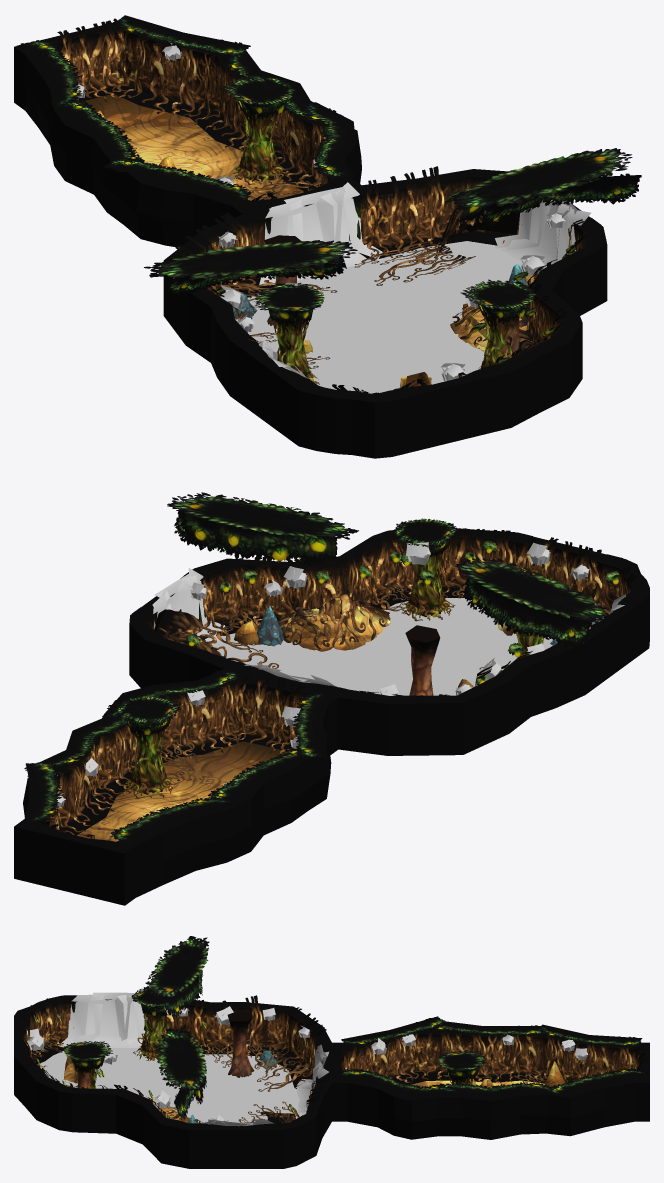
3 views of the same model, one above another, from view 1: azimuth 30°, elevation 25°; view 2: azimuth 150°, elevation 25°; view 3: azimuth 270°, elevation 25° (orthographic). The views are drawn at different scales.
Visible parts, largest first — view 1: Dun_021_Room_003_wall, Dun_021_Room_003_ground, Dan1, Dungeon_021_Object_025, un_021_Door_002 (×4), Dungeon_021_Tsuta_002, un_021_Door_002_Object1 (×3), Dan2, Dungeon_021_Tsuta_001, Dungeon_021_Object_021, Dungeon_021_Object_010 (×2), Dungeon_021_Object_011 (×2) (+8 smaller); view 2: Dun_021_Room_003_wall, Dan1, Dungeon_021_Object_025, un_021_Door_002 (×5), Dun_021_Room_003_ground, Dungeon_021_Tsuta_002, Dungeon_021_Object_021, Dan2, un_021_Door_002_Object1 (×3), Dungeon_021_Tsuta_001, Dungeon_021_Object_011 (×2), Dungeon_021_Object_010 (×2) (+9 smaller); view 3: Dan1, Dun_021_Room_003_wall, Dun_021_Room_003_ground, Dungeon_021_Object_025, Dungeon_021_Tsuta_002, un_021_Door_002_Object1 (×2), un_021_Door_002 (×4), Dungeon_021_Tsuta_001, Dungeon_021_Object_021, Dungeon_021_Object_010 (×2), Dungeon_021_Object_022, Dungeon_011_Object_010 (+6 smaller).
Part boxes in pixels (x1,y1,x2,y2): Dun_021_Room_003_wall: [163, 169, 607, 458]; Dun_021_Room_003_ground: [235, 241, 522, 393]; Dan1: [14, 30, 361, 247]; Dungeon_021_Object_025: [144, 148, 641, 296]; un_021_Door_002 (×4): [17, 22, 507, 451]; Dungeon_021_Tsuta_002: [21, 15, 355, 201]; un_021_Door_002_Object1 (×3): [45, 18, 591, 285]; Dan2: [82, 94, 303, 200]; Dungeon_021_Tsuta_001: [37, 32, 342, 199]; Dungeon_021_Object_021: [175, 166, 586, 392]; Dungeon_021_Object_010 (×2): [219, 75, 537, 323]; Dungeon_021_Object_011 (×2): [229, 106, 517, 369]; Dun_021_Room_003_wall: [129, 528, 649, 755]; Dan1: [14, 682, 338, 905]; Dungeon_021_Object_025: [167, 492, 614, 647]; un_021_Door_002 (×5): [17, 532, 647, 900]; Dun_021_Room_003_ground: [212, 598, 552, 695]; Dungeon_021_Tsuta_002: [24, 667, 327, 842]; Dungeon_021_Object_021: [182, 528, 636, 696]; Dan2: [77, 741, 285, 841]; un_021_Door_002_Object1 (×3): [152, 536, 608, 754]; Dungeon_021_Tsuta_001: [37, 674, 316, 834]; Dungeon_021_Object_011 (×2): [123, 552, 455, 798]; Dungeon_021_Object_010 (×2): [113, 518, 458, 735]; Dan1: [332, 1028, 649, 1139]; Dun_021_Room_003_wall: [14, 995, 331, 1168]; Dun_021_Room_003_ground: [37, 1046, 302, 1123]; Dungeon_021_Object_025: [144, 936, 209, 1119]; Dungeon_021_Tsuta_002: [337, 1016, 645, 1096]; un_021_Door_002_Object1 (×2): [58, 992, 328, 1115]; un_021_Door_002 (×4): [14, 1016, 649, 1168]; Dungeon_021_Tsuta_001: [347, 1027, 632, 1088]; Dungeon_021_Object_021: [28, 995, 326, 1122]; Dungeon_021_Object_010 (×2): [63, 1041, 487, 1082]; Dungeon_021_Object_022: [36, 1033, 309, 1091]; Dungeon_011_Object_010: [227, 1010, 254, 1077].
Size of what is drawn, in the model's own units: 18.45 by 4.55 by 30.
